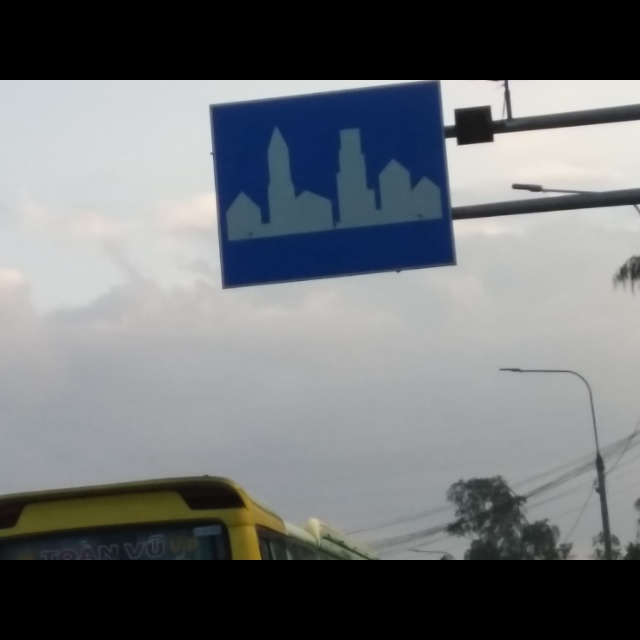Khu đông dân cư: (205, 81, 458, 294)
